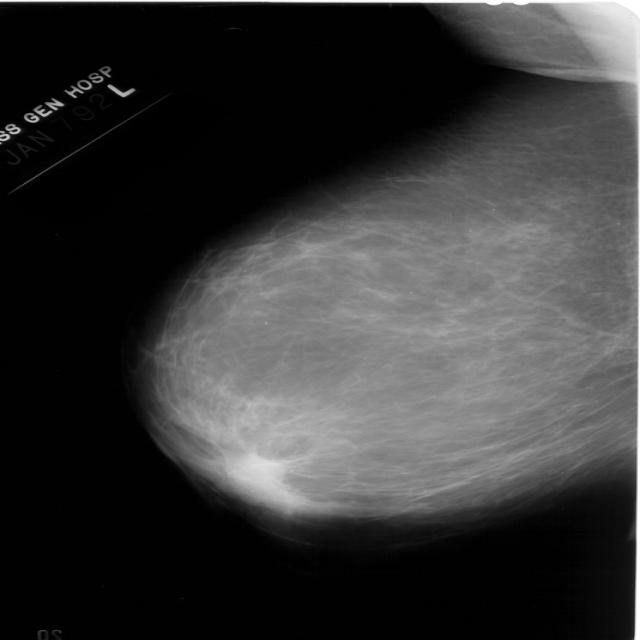tumour: (229, 453, 282, 489)
